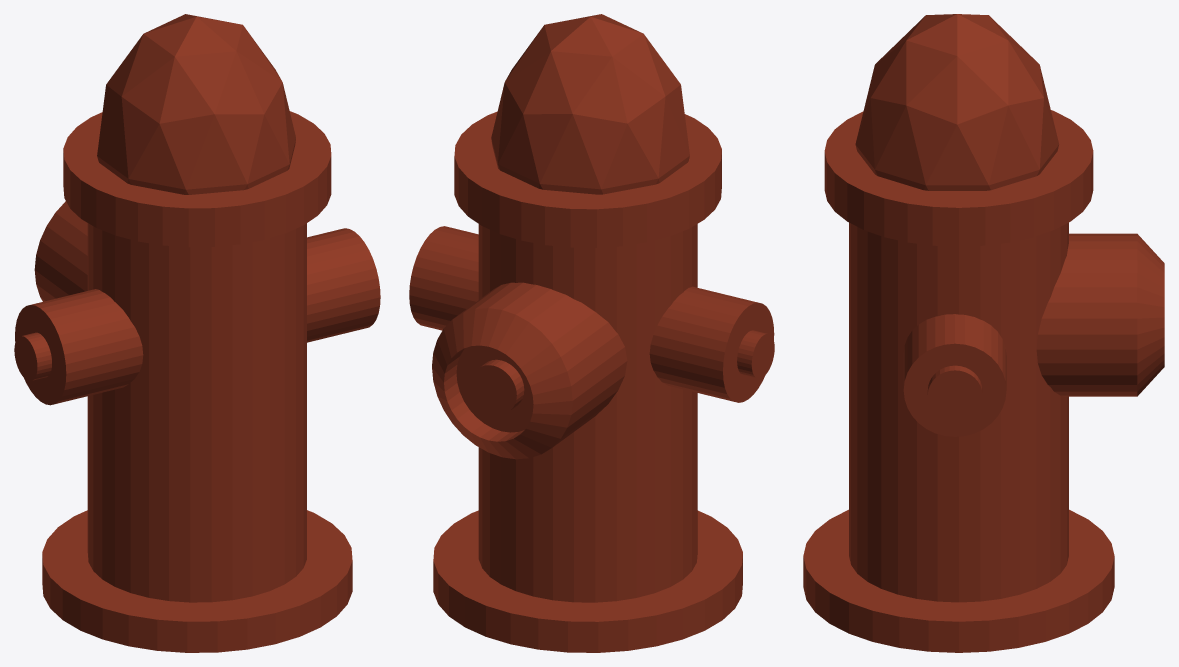
File: hydrant.fbx
3 renders of one model, left to right at view 1: azimuth 30°, elevation 25°; view 2: azimuth 150°, elevation 25°; view 3: azimuth 270°, elevation 25°, orthographic.
Visible parts, largest first — view 1: Cylinder; view 2: Cylinder; view 3: Cylinder.
Boxes of the visible parts, x1,y1,x2,y2 form: Cylinder: [14, 14, 380, 652]; Cylinder: [409, 14, 774, 652]; Cylinder: [803, 14, 1164, 652].
Size of the model in its own units: 61.51 by 99.21 by 56.75.
